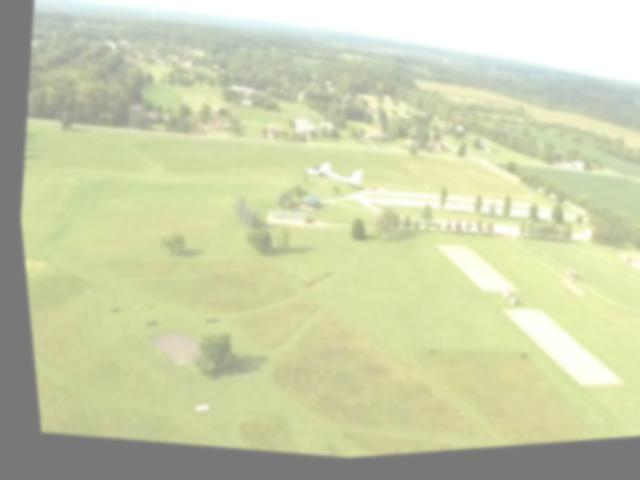uav: (294, 152, 370, 206)
